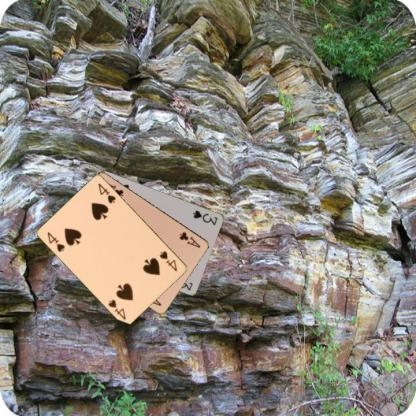3s: (190, 208, 219, 226)
4s: (44, 229, 66, 255), (157, 248, 179, 273)
Ac: (176, 229, 202, 249)
